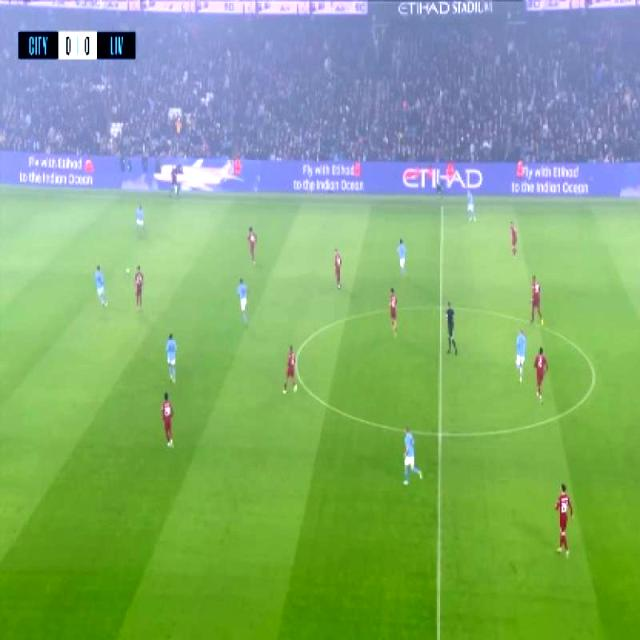halfcircle_bottom: (428, 417, 450, 448)
halfcircle_top: (431, 295, 449, 320)
midline_top_intersection: (434, 192, 449, 218)
